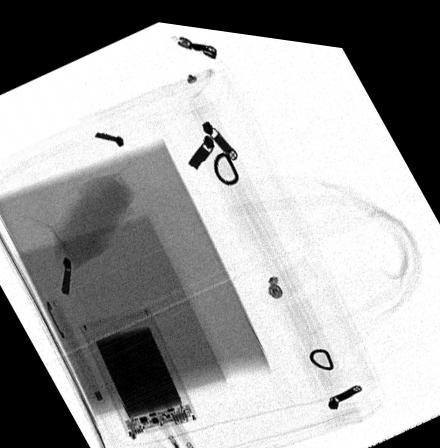Powerbank: (79, 301, 199, 438)
